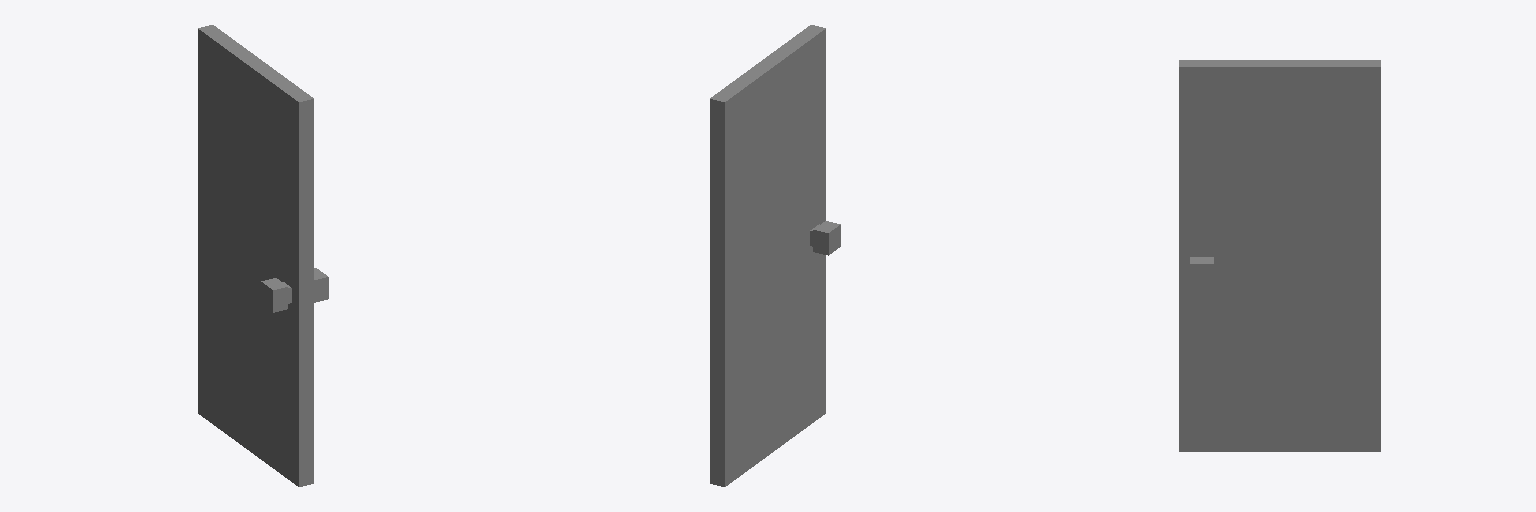
File: Science_room_door_right.obj
3 views of the same model, side by side, from view 1: azimuth 30°, elevation 25°; view 2: azimuth 150°, elevation 25°; view 3: azimuth 270°, elevation 25° (orthographic).
Parts seen in each view (by area): view 1: ????_?; view 2: ????_?; view 3: ????_?.
Part boxes in pixels (x1,y1,x2,y2): ????_?: (198, 25, 328, 486); ????_?: (710, 25, 840, 486); ????_?: (1179, 60, 1380, 451).
Size of the model in its own units: 0.3882 by 2.58 by 1.23.